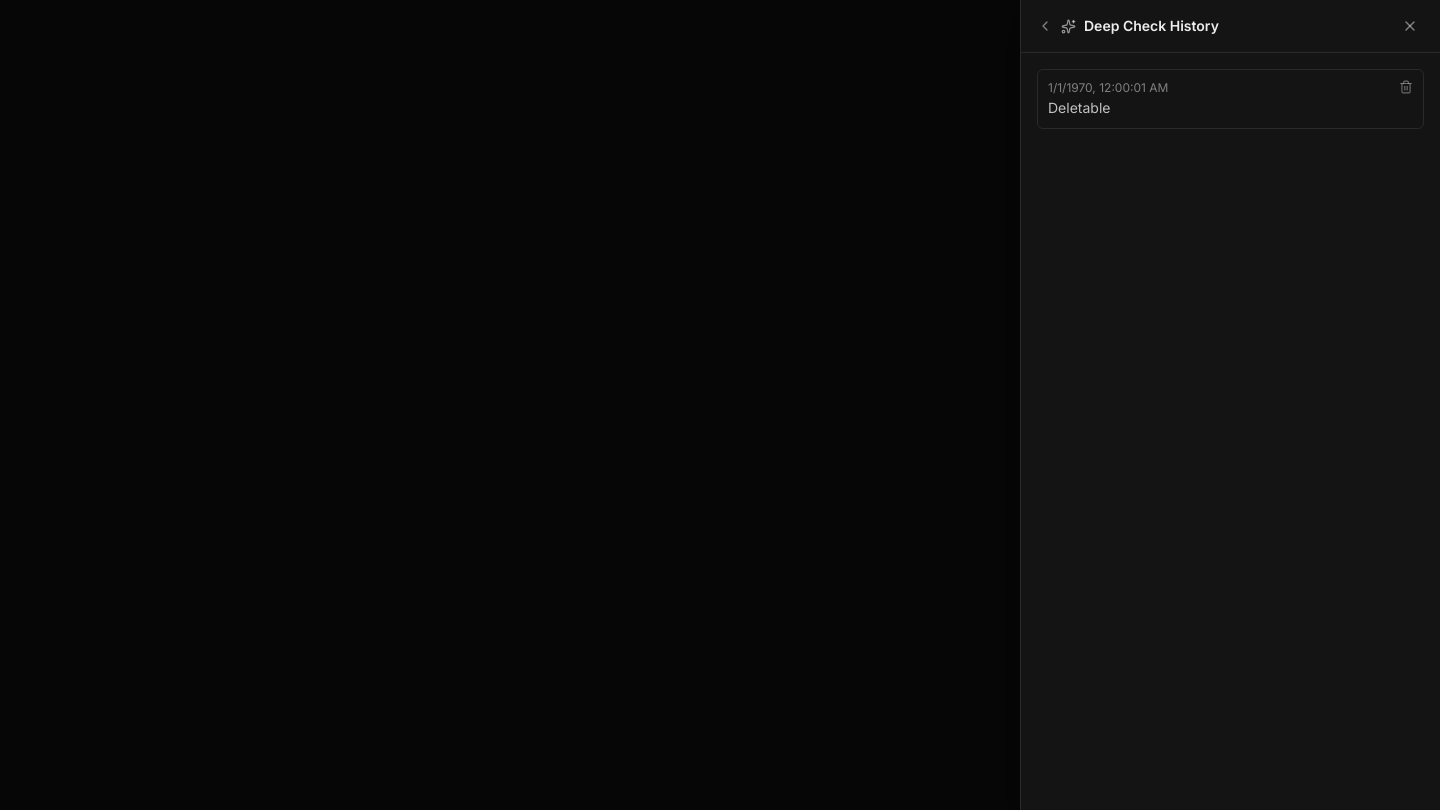
Test: DeepCheckPanel › clicking the trash icon once only arms a confirmation, without deleting yet
Expected: the text "Deletable" is shown, [1048,99,1110,116]
Click the button named "Delete session" at (1406, 87), box [1399,80,1413,94]
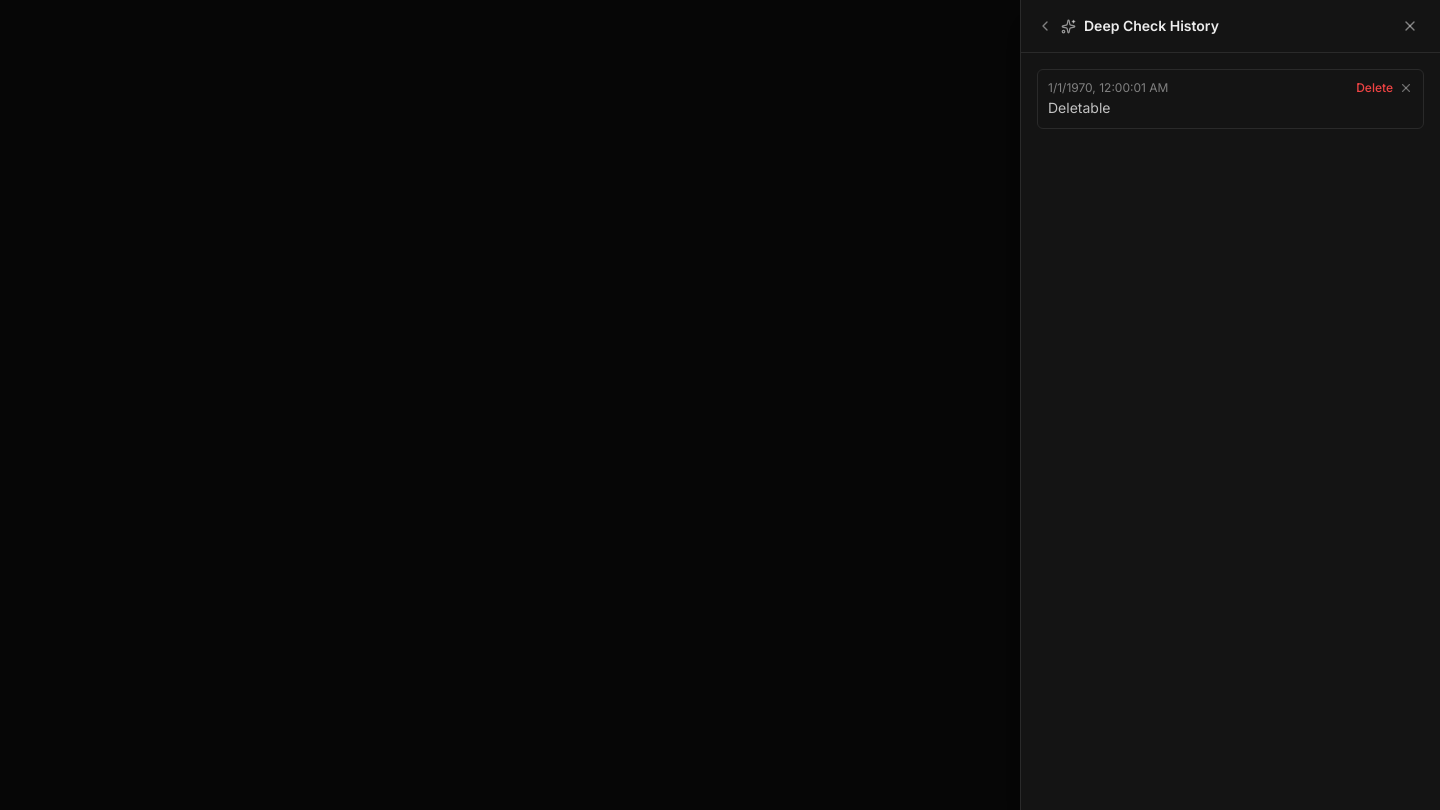
Expected: the text "Deletable" is shown, [1048,99,1110,116]
Now the button "Delete" is shown, box [1356,80,1393,96]
